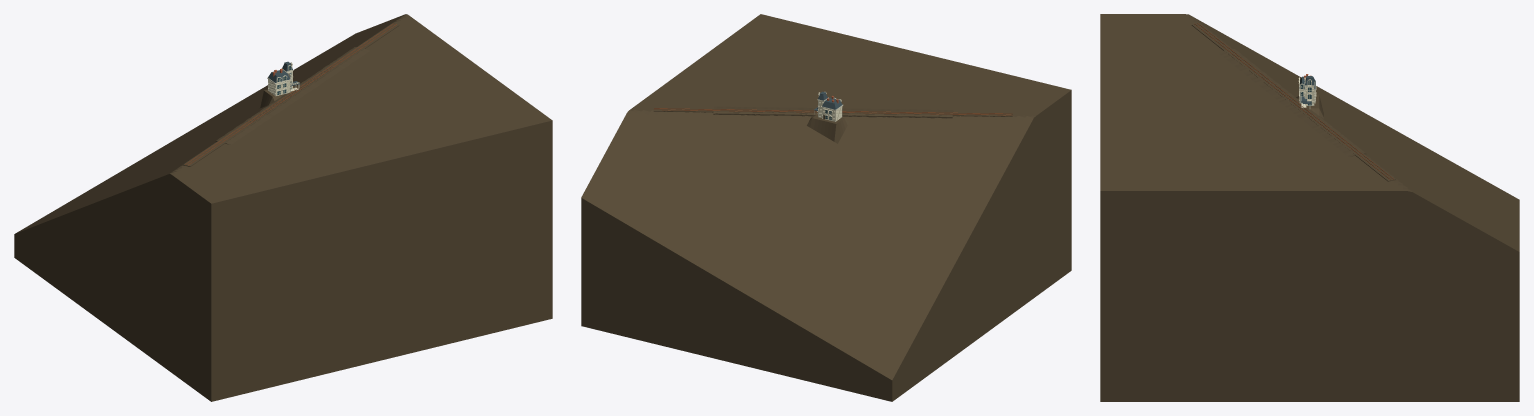
The model's file is railroad-ours-gpt-6-astra.glb.
3 views of the same model, side by side, from view 1: azimuth 30°, elevation 25°; view 2: azimuth 150°, elevation 25°; view 3: azimuth 270°, elevation 25° (orthographic). The views are drawn at different scales.
Visible parts, largest first — view 1: object 6; view 2: object 6; view 3: object 6.
Part boxes in pixels (x1=…): object 6: x1=14, y1=14, x2=552, y2=401; object 6: x1=581, y1=14, x2=1071, y2=401; object 6: x1=1100, y1=14, x2=1519, y2=401.
Size of the model in its own units: 180 by 113 by 180.
